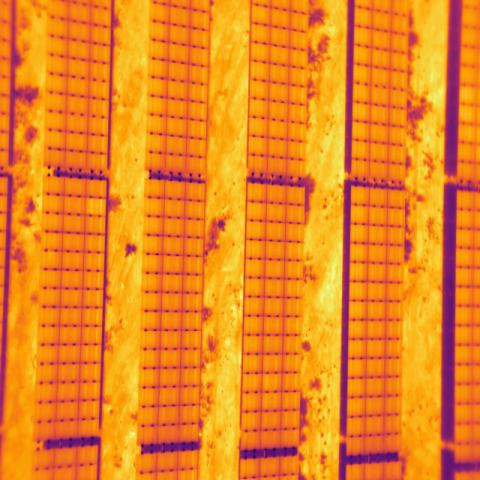fault: (85, 197, 108, 218)
